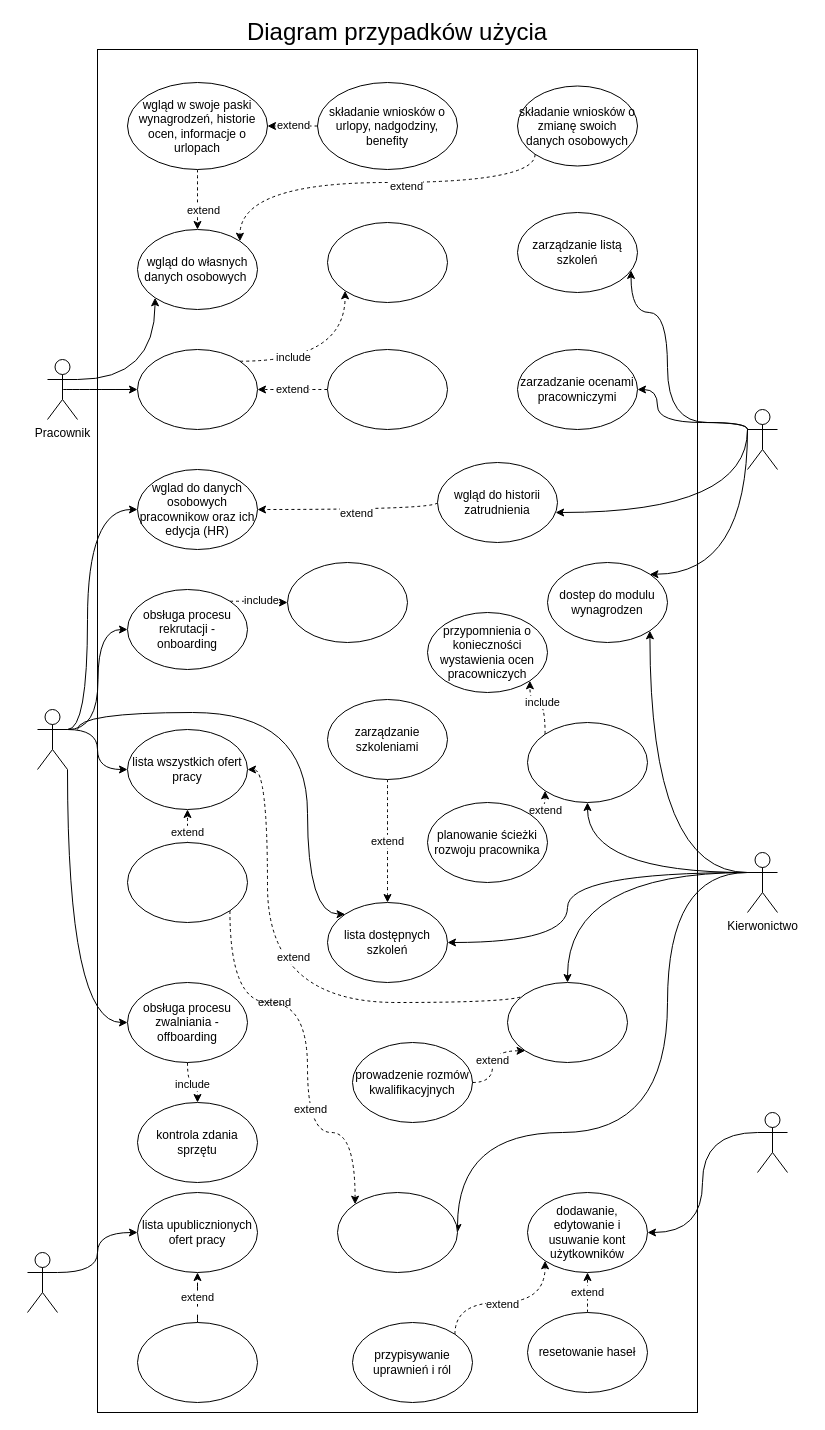
Image size: 825x1430. Some labels were removed from this diagram. Each missing label, with the centre of its shape:
Administrator: pixel 772 1142
aplikowanie na oferty pracy online: pixel 197 1362
dodawanie ofert pracy: pixel 397 1232
Kadry/HR: pixel 52 739
Kandydat: pixel 42 1282
lista przydzielonych szkoleń: pixel 197 389
planowanie rozmów kwalifikacyjnych: pixel 347 602
przeglądanie materiałów szkoleniowych: pixel 387 389
przeglądanie przesłanych CV: pixel 567 1022
przypomnienia o nadchodzących szkoleniach: pixel 387 262
publikowanie ofert pracy: pixel 187 882
wystawianie ocen pracowniczych: pixel 587 762
Zarząd: pixel 762 439
